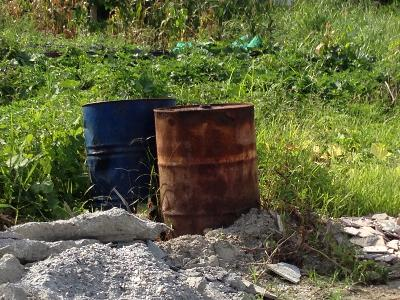bucket: (153, 103, 262, 239), (78, 97, 176, 213)
